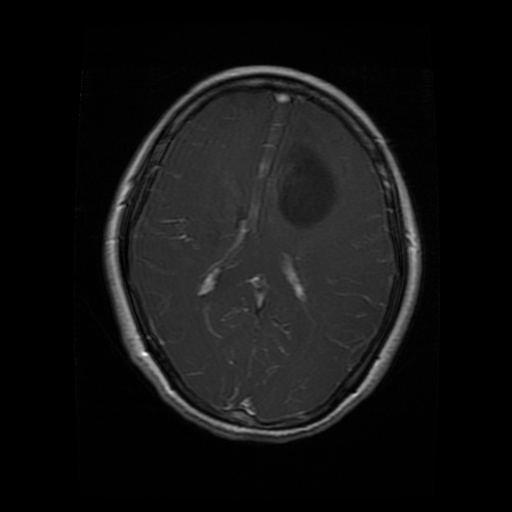glioma: (279, 146, 338, 229)
